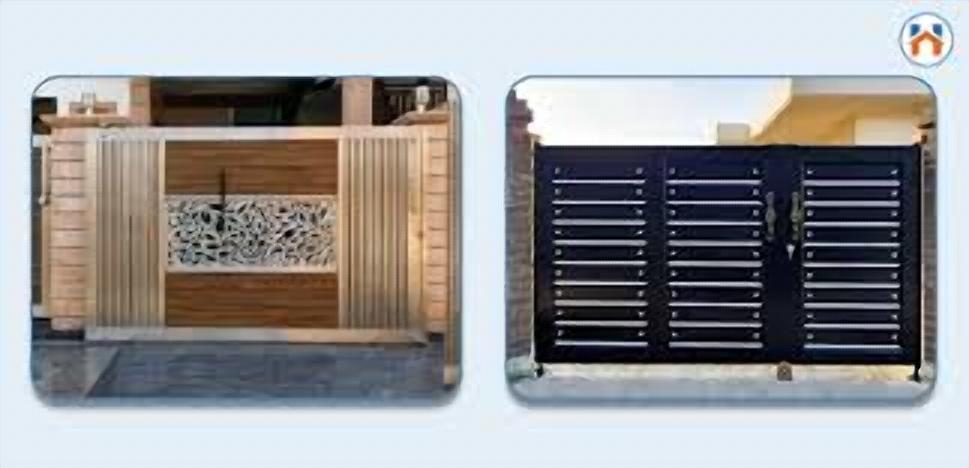Gate: (534, 143, 926, 375), (82, 125, 425, 346)
